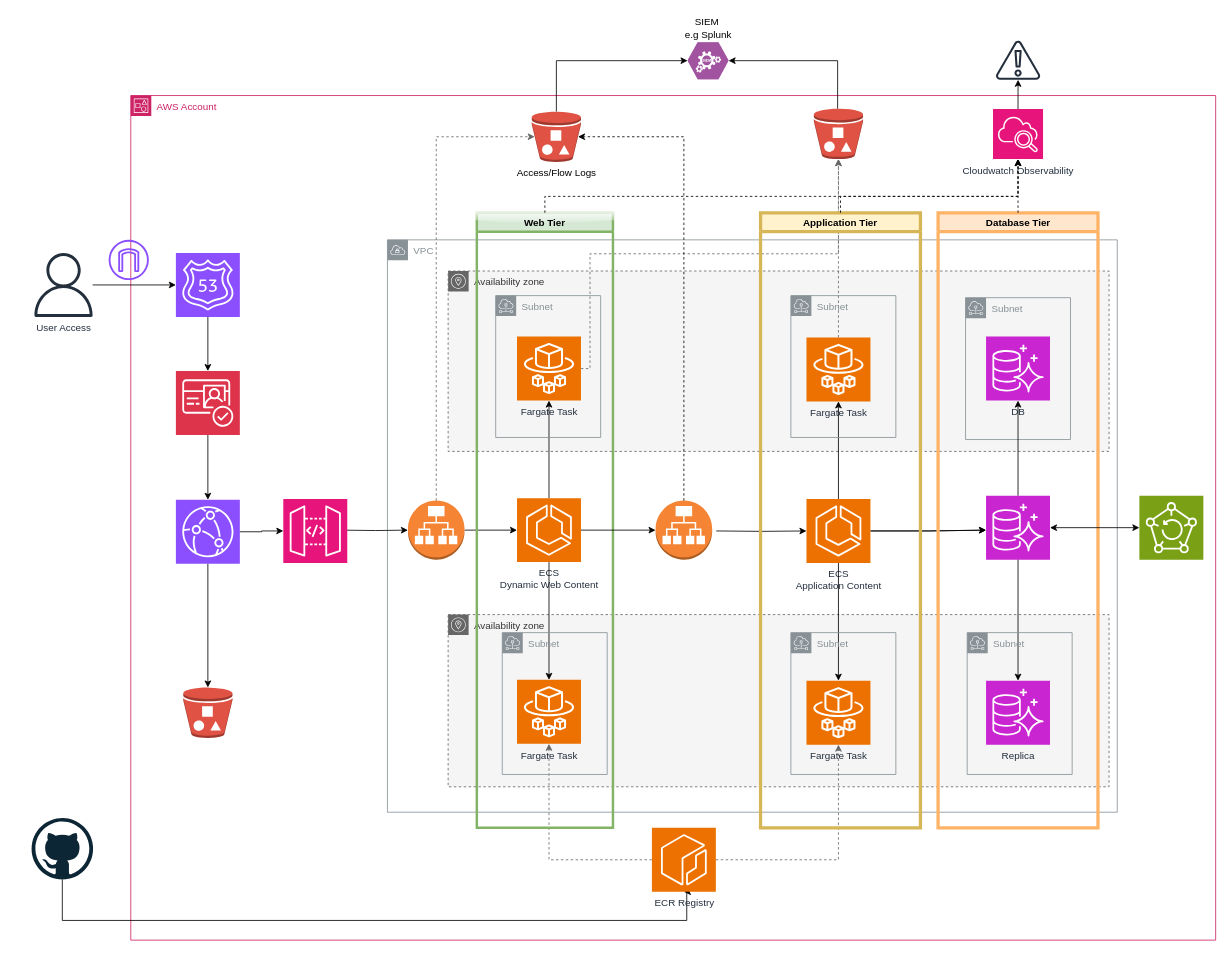
Image size: 1230x954. Some labels were removed from this diagram. The shapes that lost their labels are listed below. From the top down, each one's centre as x and y in pixels, then its label:
the point at 1017,60: Alerting Mechanism e.g OpsGenie
the point at 838,133: Application Logs
the point at 128,259: Internet GW
the point at 207,284: R53 Hostname
the point at 207,402: Cognito
the point at 207,531: Cloudfront (static assets)
the point at 314,530: API Gateway
the point at 436,530: Application Load Balancer
the point at 683,530: Internal Load Balancer
the point at 1017,527: Aurora Cluster
the point at 1171,527: AWS Backup & Restore
the point at 207,712: S3 Static Assets
the point at 62,848: Github Action Pipeline
